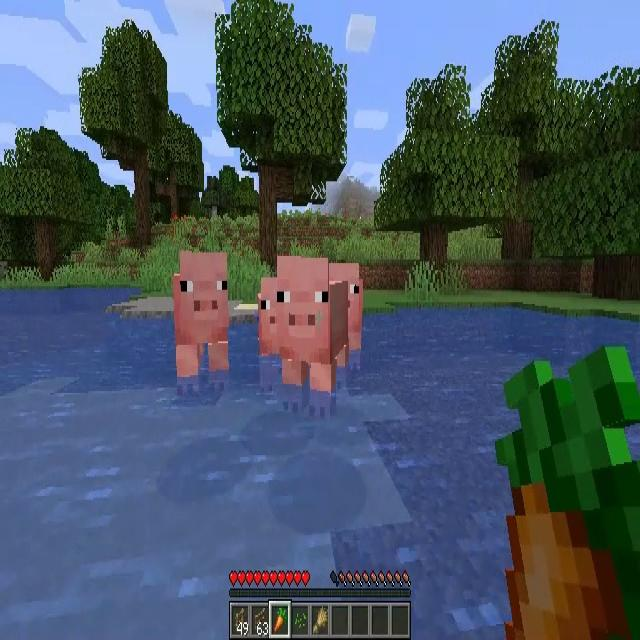pig: (278, 257, 348, 388), (173, 254, 228, 376), (327, 259, 368, 354), (257, 275, 289, 363)
